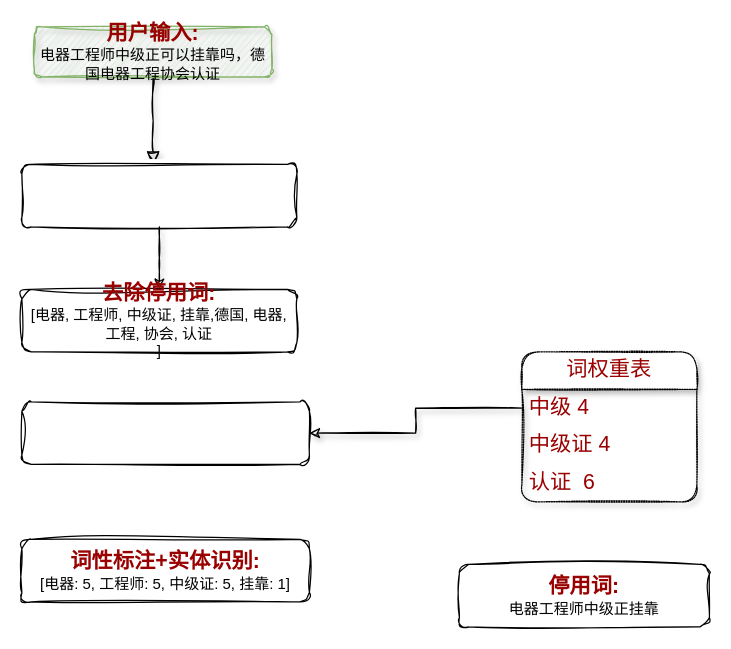
This 731x649 diagram has some shape labels left out. The centre of each missing label's shape, as x and y in pixels:
分词+拼写纠错: [电器, 工程师, 中级证, 可以, 挂靠, 吗, 德国, 电器, 工程, 协会, 认证]: (159,195)
词权重: [电器: 1, 工程师: 1, 中级证: 4, 挂靠: 1,德国: 1, 电器: 1, 工程: 1, 协会: 1, 认证: 6 ]: (165,432)
